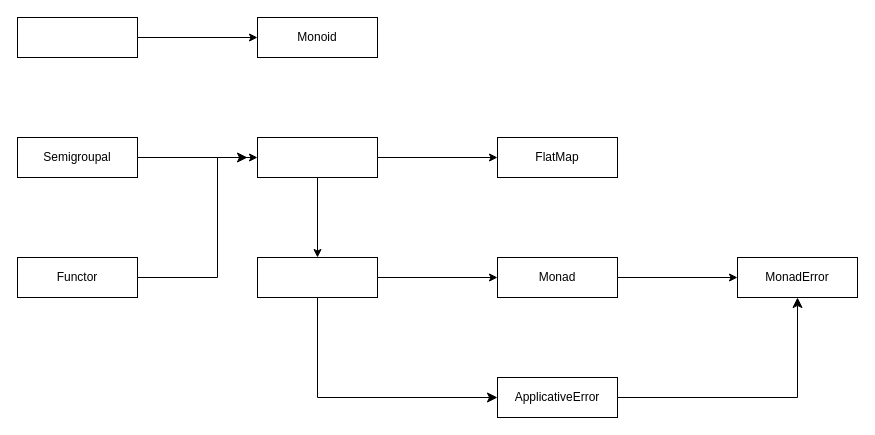
Some shapes in this 875 by 435 pixel diagram are drawn without their labels. The shapes that lost their labels are listed below. From the top down, each one's centre as x and y in pixels, then its label:
pixel 77 37: Semigroup
pixel 317 157: Apply
pixel 317 277: Applicative
